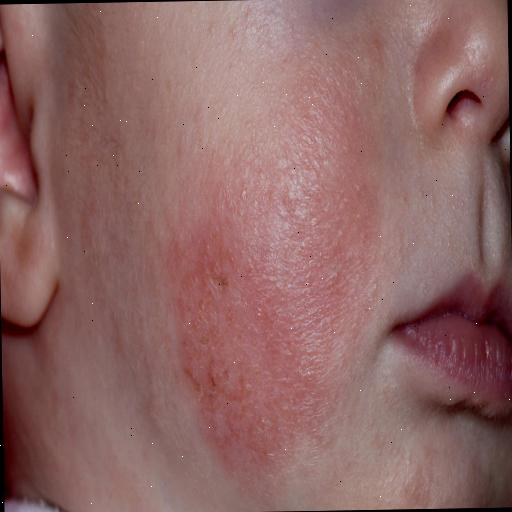Skin_Lesion: (397, 460, 435, 507), (212, 254, 246, 302), (196, 354, 227, 406), (162, 246, 194, 286), (248, 403, 274, 438), (324, 260, 346, 301), (90, 31, 113, 67), (258, 294, 280, 328), (299, 356, 319, 390), (330, 220, 350, 250), (368, 26, 385, 60), (306, 204, 323, 232), (27, 93, 37, 120)
